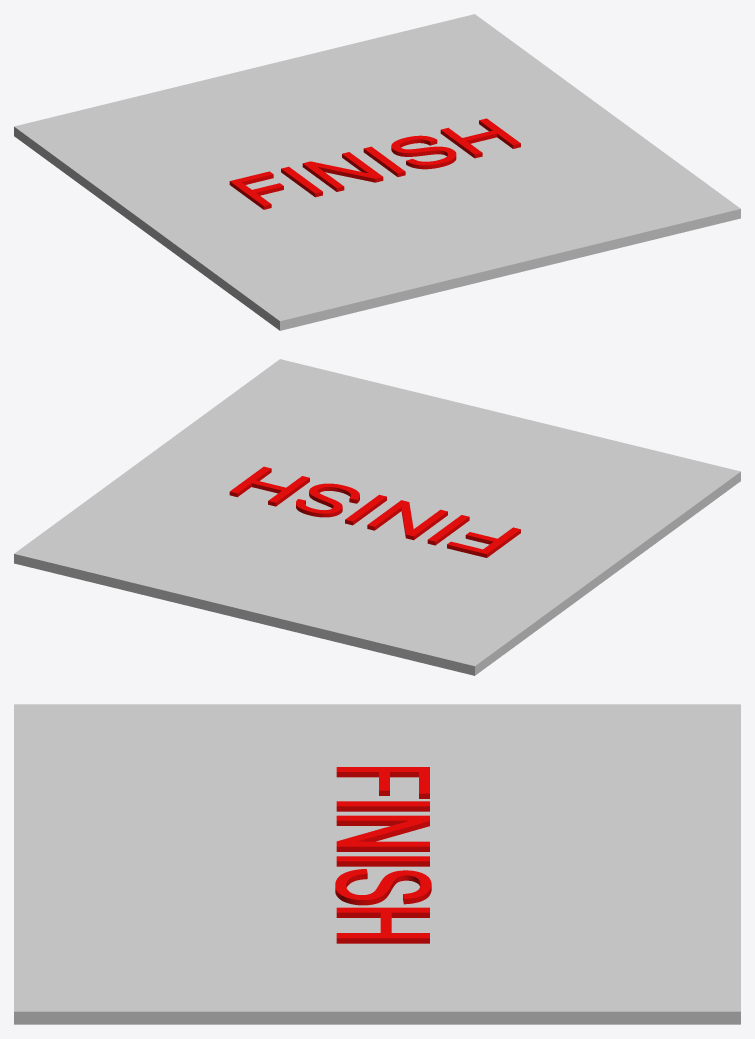
File: checkpoint-end.glb
The picture shows the model from 3 angles, top to bottom: view 1: azimuth 30°, elevation 25°; view 2: azimuth 150°, elevation 25°; view 3: azimuth 270°, elevation 25°; orthographic projection. The views are drawn at different scales.
Parts seen in each view (by area): view 1: Box001, Text001; view 2: Box001, Text001; view 3: Box001, Text001.
Part boxes in pixels (bbox=[...]): Box001: bbox=[14, 14, 740, 330]; Text001: bbox=[229, 118, 520, 209]; Box001: bbox=[14, 359, 740, 675]; Text001: bbox=[229, 466, 520, 557]; Box001: bbox=[14, 704, 740, 1024]; Text001: bbox=[335, 767, 431, 943].
Bounding box in the file's own units: 2.5 × 0.0699 × 2.5.
